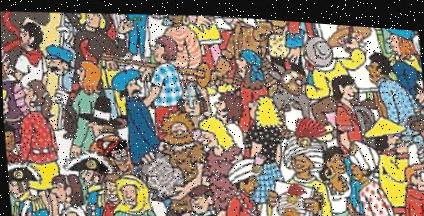waldo: (96, 135, 129, 172)
